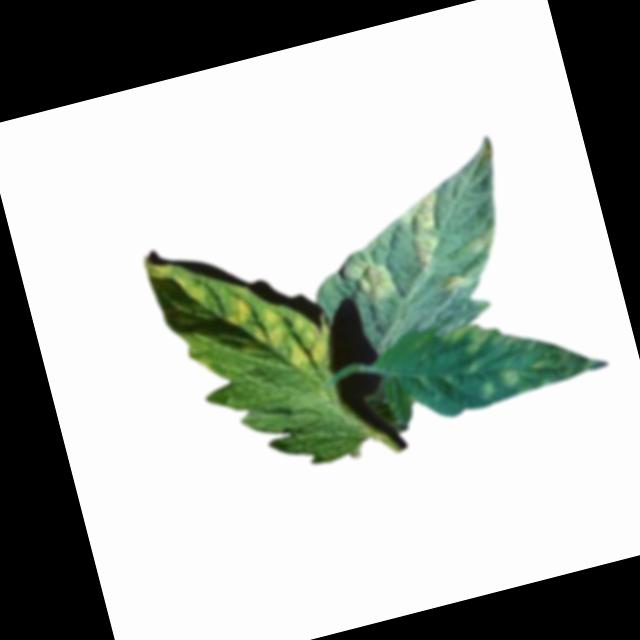Leaf_Mold: (223, 275, 340, 387), (391, 188, 457, 277), (339, 251, 401, 308), (444, 319, 497, 359), (172, 270, 206, 307), (436, 269, 475, 297), (472, 374, 500, 402), (498, 364, 523, 392)
